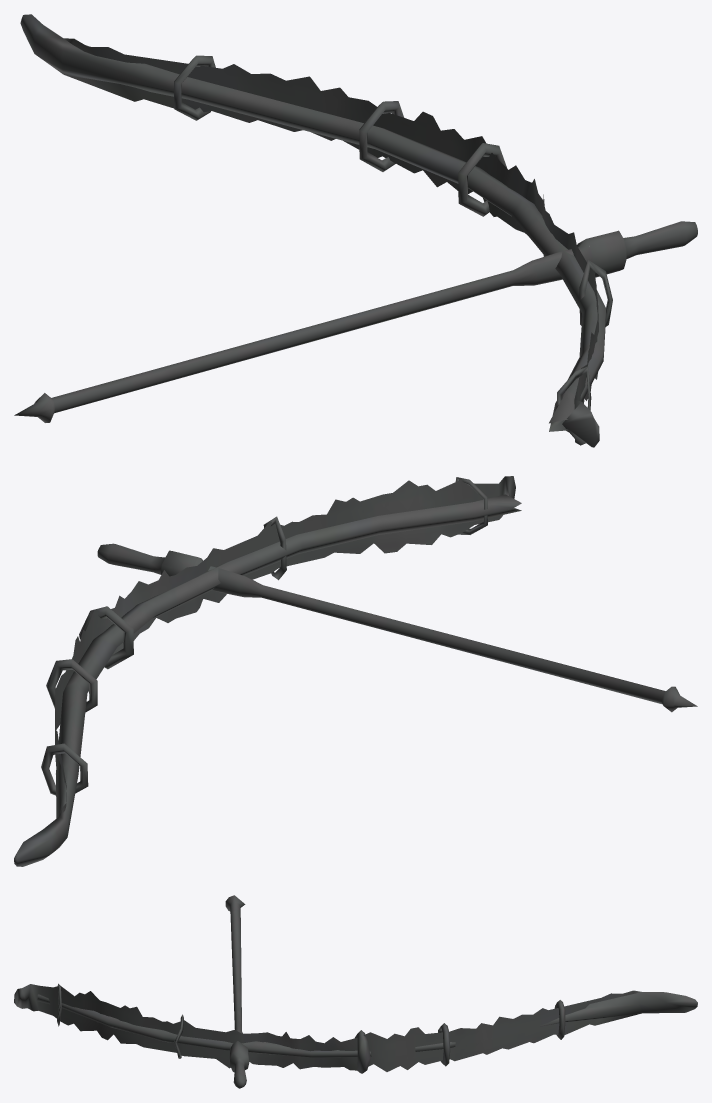
File: g_bow.fbx
3 renders of one model, top to bottom at view 1: azimuth 30°, elevation 25°; view 2: azimuth 150°, elevation 25°; view 3: azimuth 270°, elevation 25°, orthographic. The views are drawn at different scales.
Parts seen in each view (by area): view 1: tripo_node_b2b47ae2-1abf-4728-a4b0-fc077c6eb8c0; view 2: tripo_node_b2b47ae2-1abf-4728-a4b0-fc077c6eb8c0; view 3: tripo_node_b2b47ae2-1abf-4728-a4b0-fc077c6eb8c0.
Boxes of the visible parts, box(x1,y1,x2,y2) form: tripo_node_b2b47ae2-1abf-4728-a4b0-fc077c6eb8c0: box(14, 14, 697, 447); tripo_node_b2b47ae2-1abf-4728-a4b0-fc077c6eb8c0: box(14, 476, 697, 866); tripo_node_b2b47ae2-1abf-4728-a4b0-fc077c6eb8c0: box(14, 895, 697, 1088).
Size of the model in its own units: 0.8585 by 0.0969 by 1.25.
Materials: 1 (1 with a texture image).
